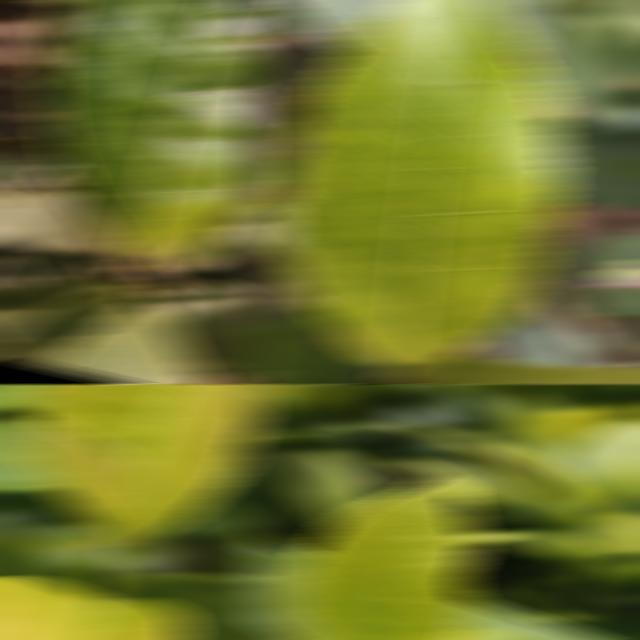Leaf: (275, 0, 569, 367), (40, 0, 266, 261), (23, 384, 266, 538), (283, 471, 481, 640), (383, 422, 610, 526), (42, 301, 208, 384), (388, 455, 560, 527), (0, 576, 190, 640), (522, 9, 625, 123), (0, 286, 141, 367), (156, 273, 266, 375), (107, 572, 266, 640), (246, 318, 386, 384), (285, 446, 390, 527), (545, 121, 640, 207), (552, 418, 640, 508), (0, 277, 131, 337), (0, 189, 120, 254), (279, 0, 405, 50), (0, 417, 66, 493), (0, 137, 70, 208), (574, 509, 640, 569)
